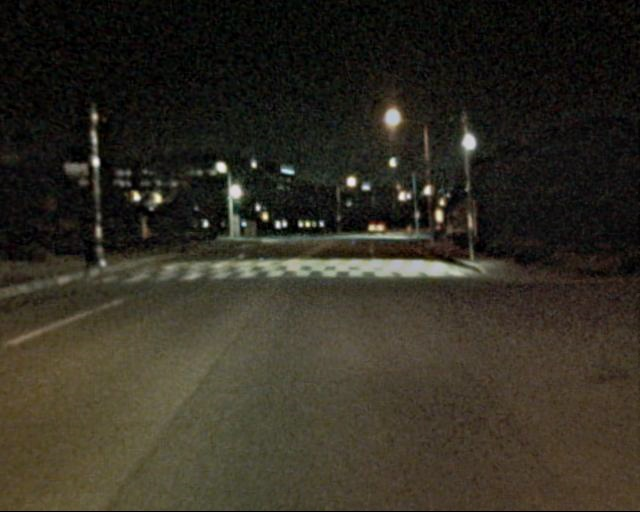person: (82, 222, 112, 283)
